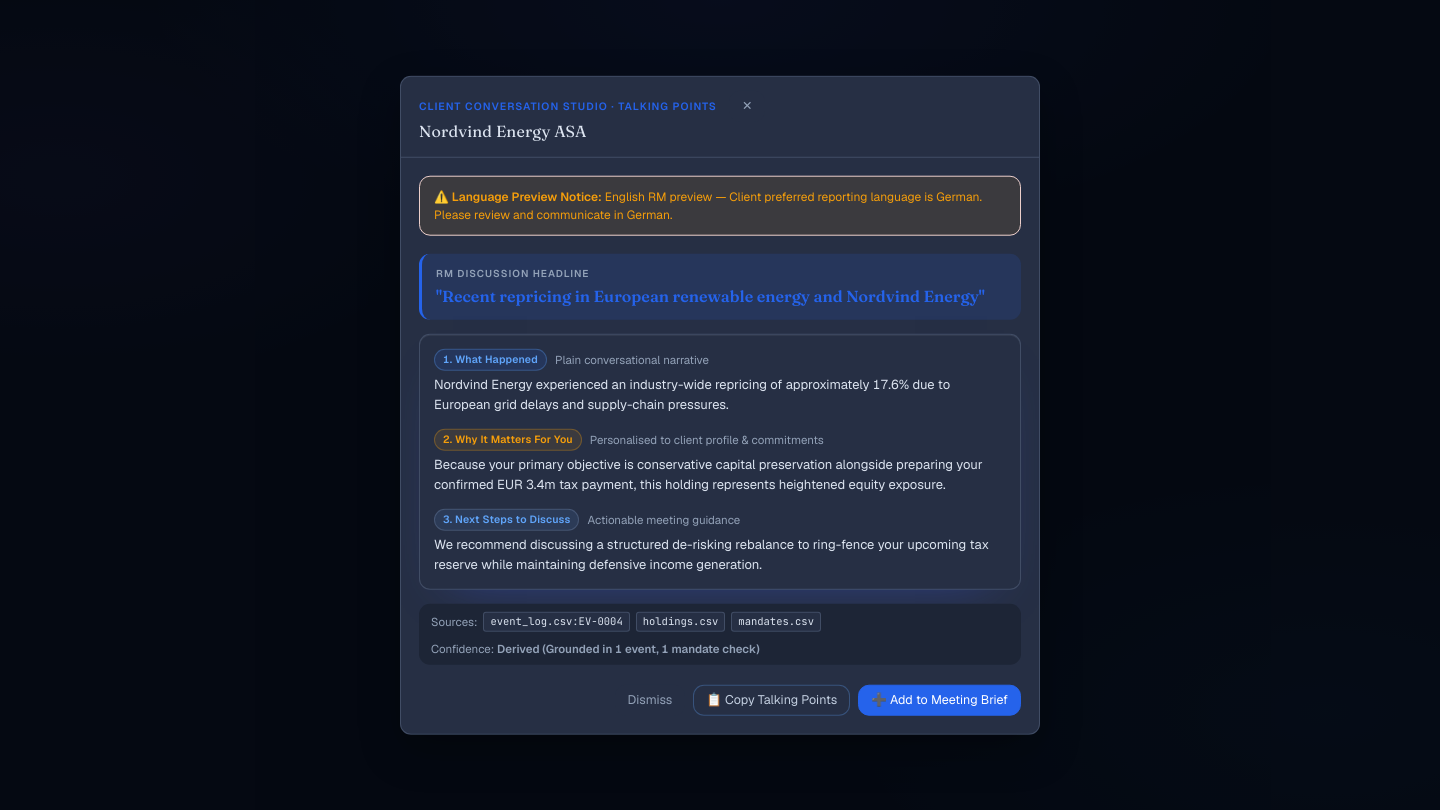
Test: Client Explanation Module Components › ClientAttributionModal renders plain English points and German language preview notice
Expected: the text "Client Conversation Studio · Talking Points" is shown, [419,99,717,114]
Expected: the text "Recent repricing in European renewable energy" is shown, [442,286,979,306]
What coordinates should you click on to do the following:
click the button "➕ Add to Meeting Brief"
I would click on:
 (940, 700)
Its box is [858,684,1021,715].
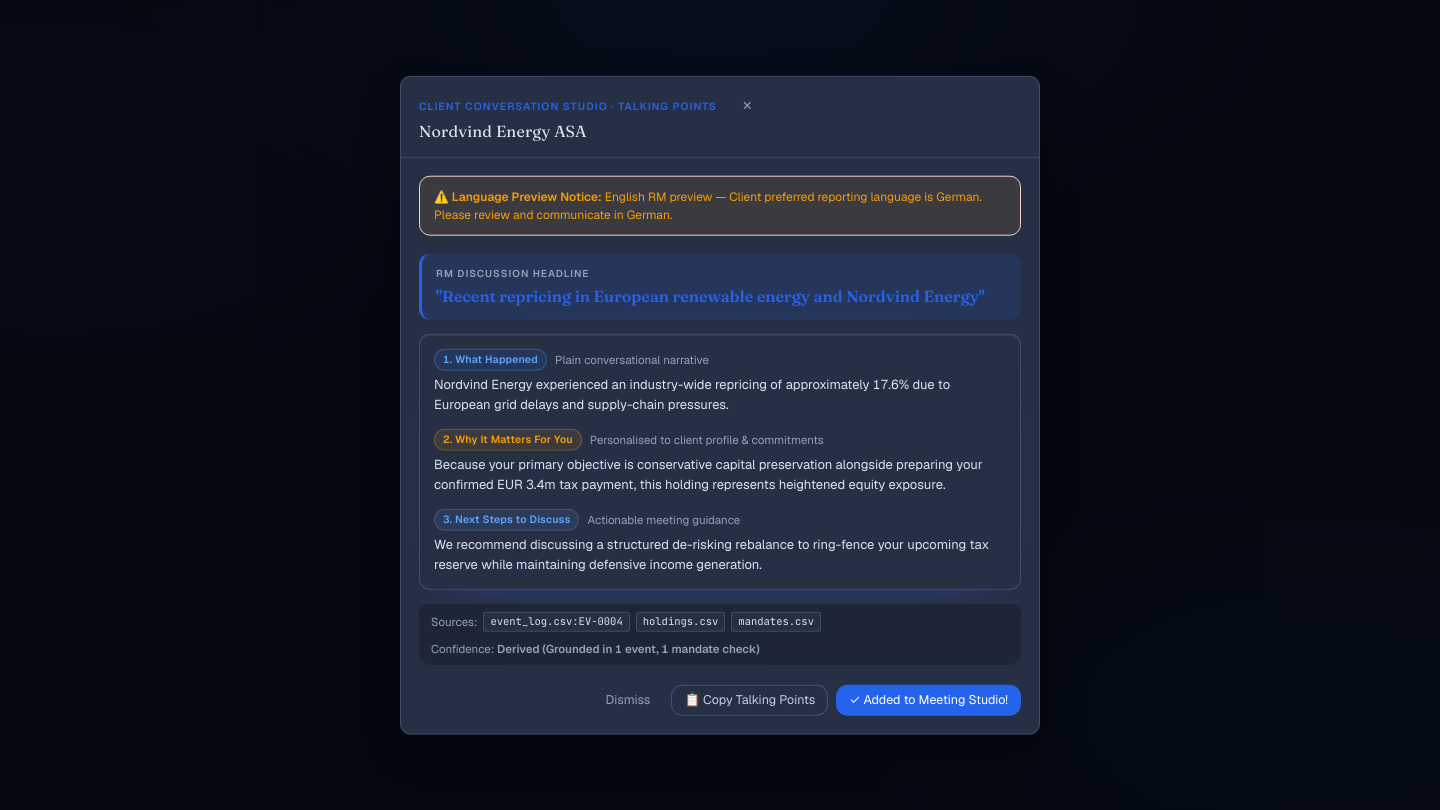
Expected: the button "✓ Added to Meeting Studio!" is shown, [836,684,1021,715]
